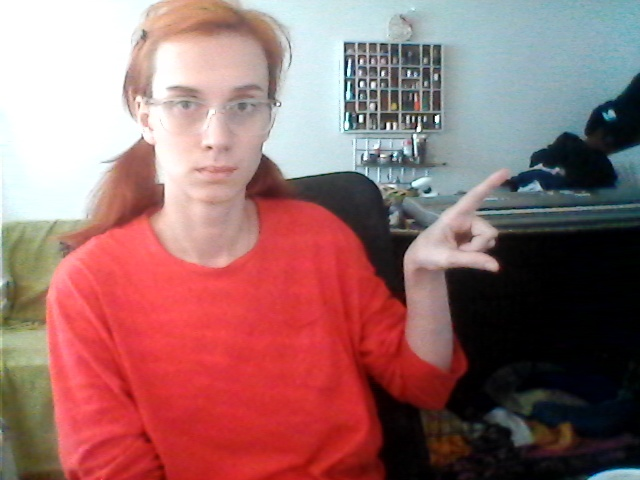on: (388, 166, 520, 414)
